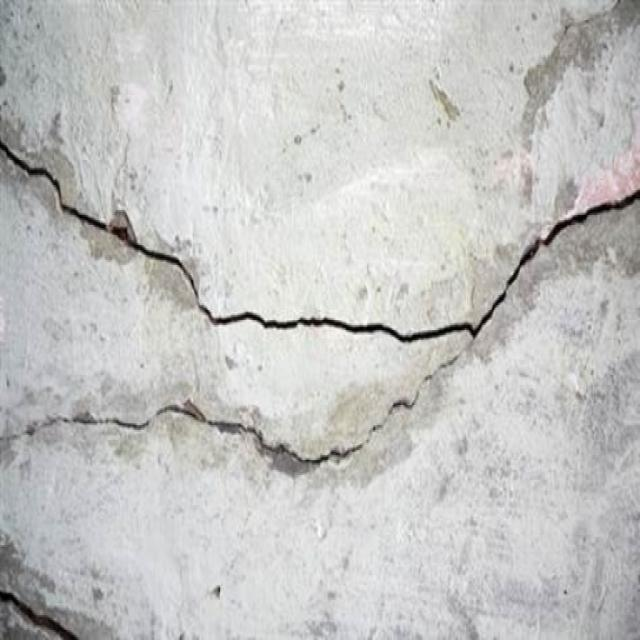crack: (0, 128, 639, 344), (2, 347, 469, 482), (2, 584, 77, 638)
